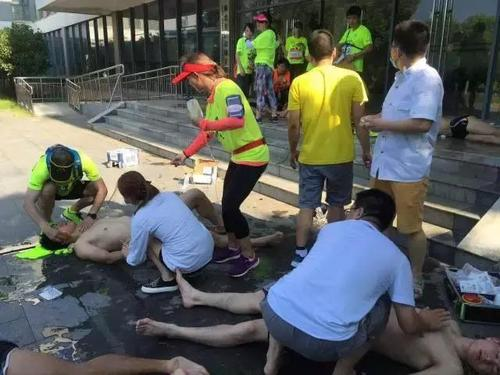10+: (1, 4, 500, 375)
down: (132, 264, 500, 375), (35, 184, 287, 268), (1, 328, 214, 375), (363, 108, 500, 149)
